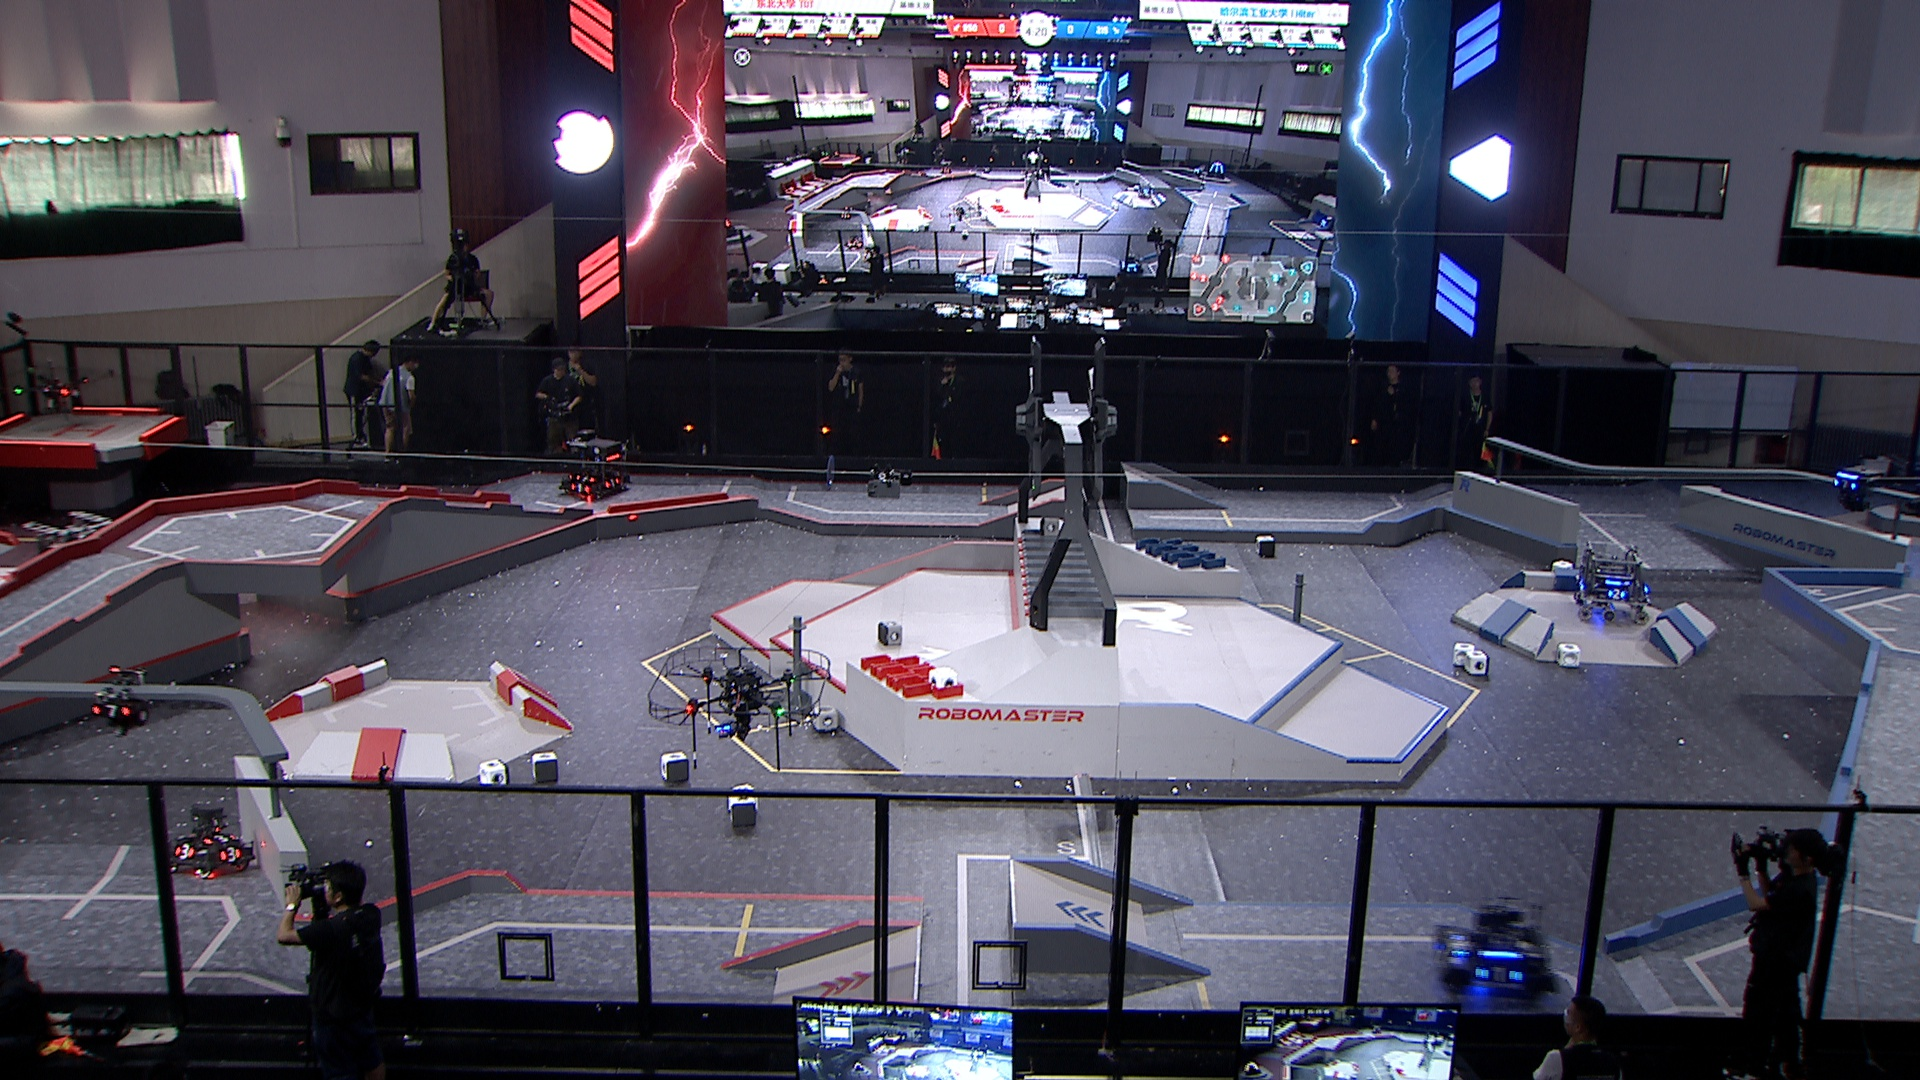armor: (1476, 964, 1522, 986), (1447, 932, 1476, 959), (91, 703, 133, 719), (202, 832, 239, 847), (173, 844, 196, 862), (218, 847, 243, 864), (1832, 477, 1859, 491), (1607, 588, 1627, 603), (570, 484, 591, 496), (575, 475, 596, 485), (604, 477, 621, 489)
car: (1433, 891, 1560, 1005), (167, 803, 257, 880), (1575, 541, 1652, 628), (560, 429, 628, 501)
ignore: (1120, 255, 1147, 276), (1207, 162, 1228, 182), (847, 233, 866, 251), (727, 219, 742, 239), (1138, 183, 1155, 199), (839, 204, 855, 220), (939, 160, 953, 174), (1319, 216, 1335, 229), (1193, 167, 1207, 179)
watcher: (91, 665, 153, 736), (1832, 465, 1882, 516)
